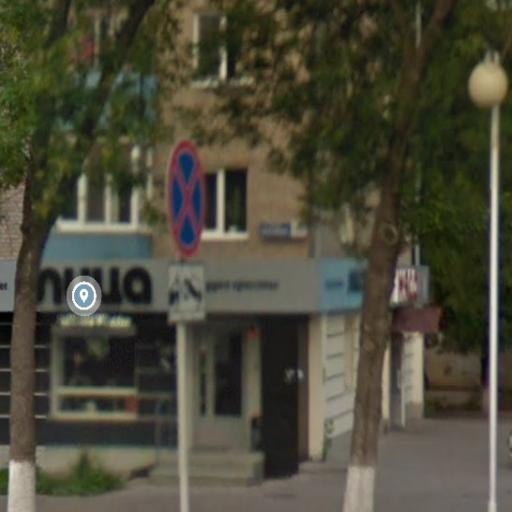traffic_sign: (164, 142, 207, 259)
